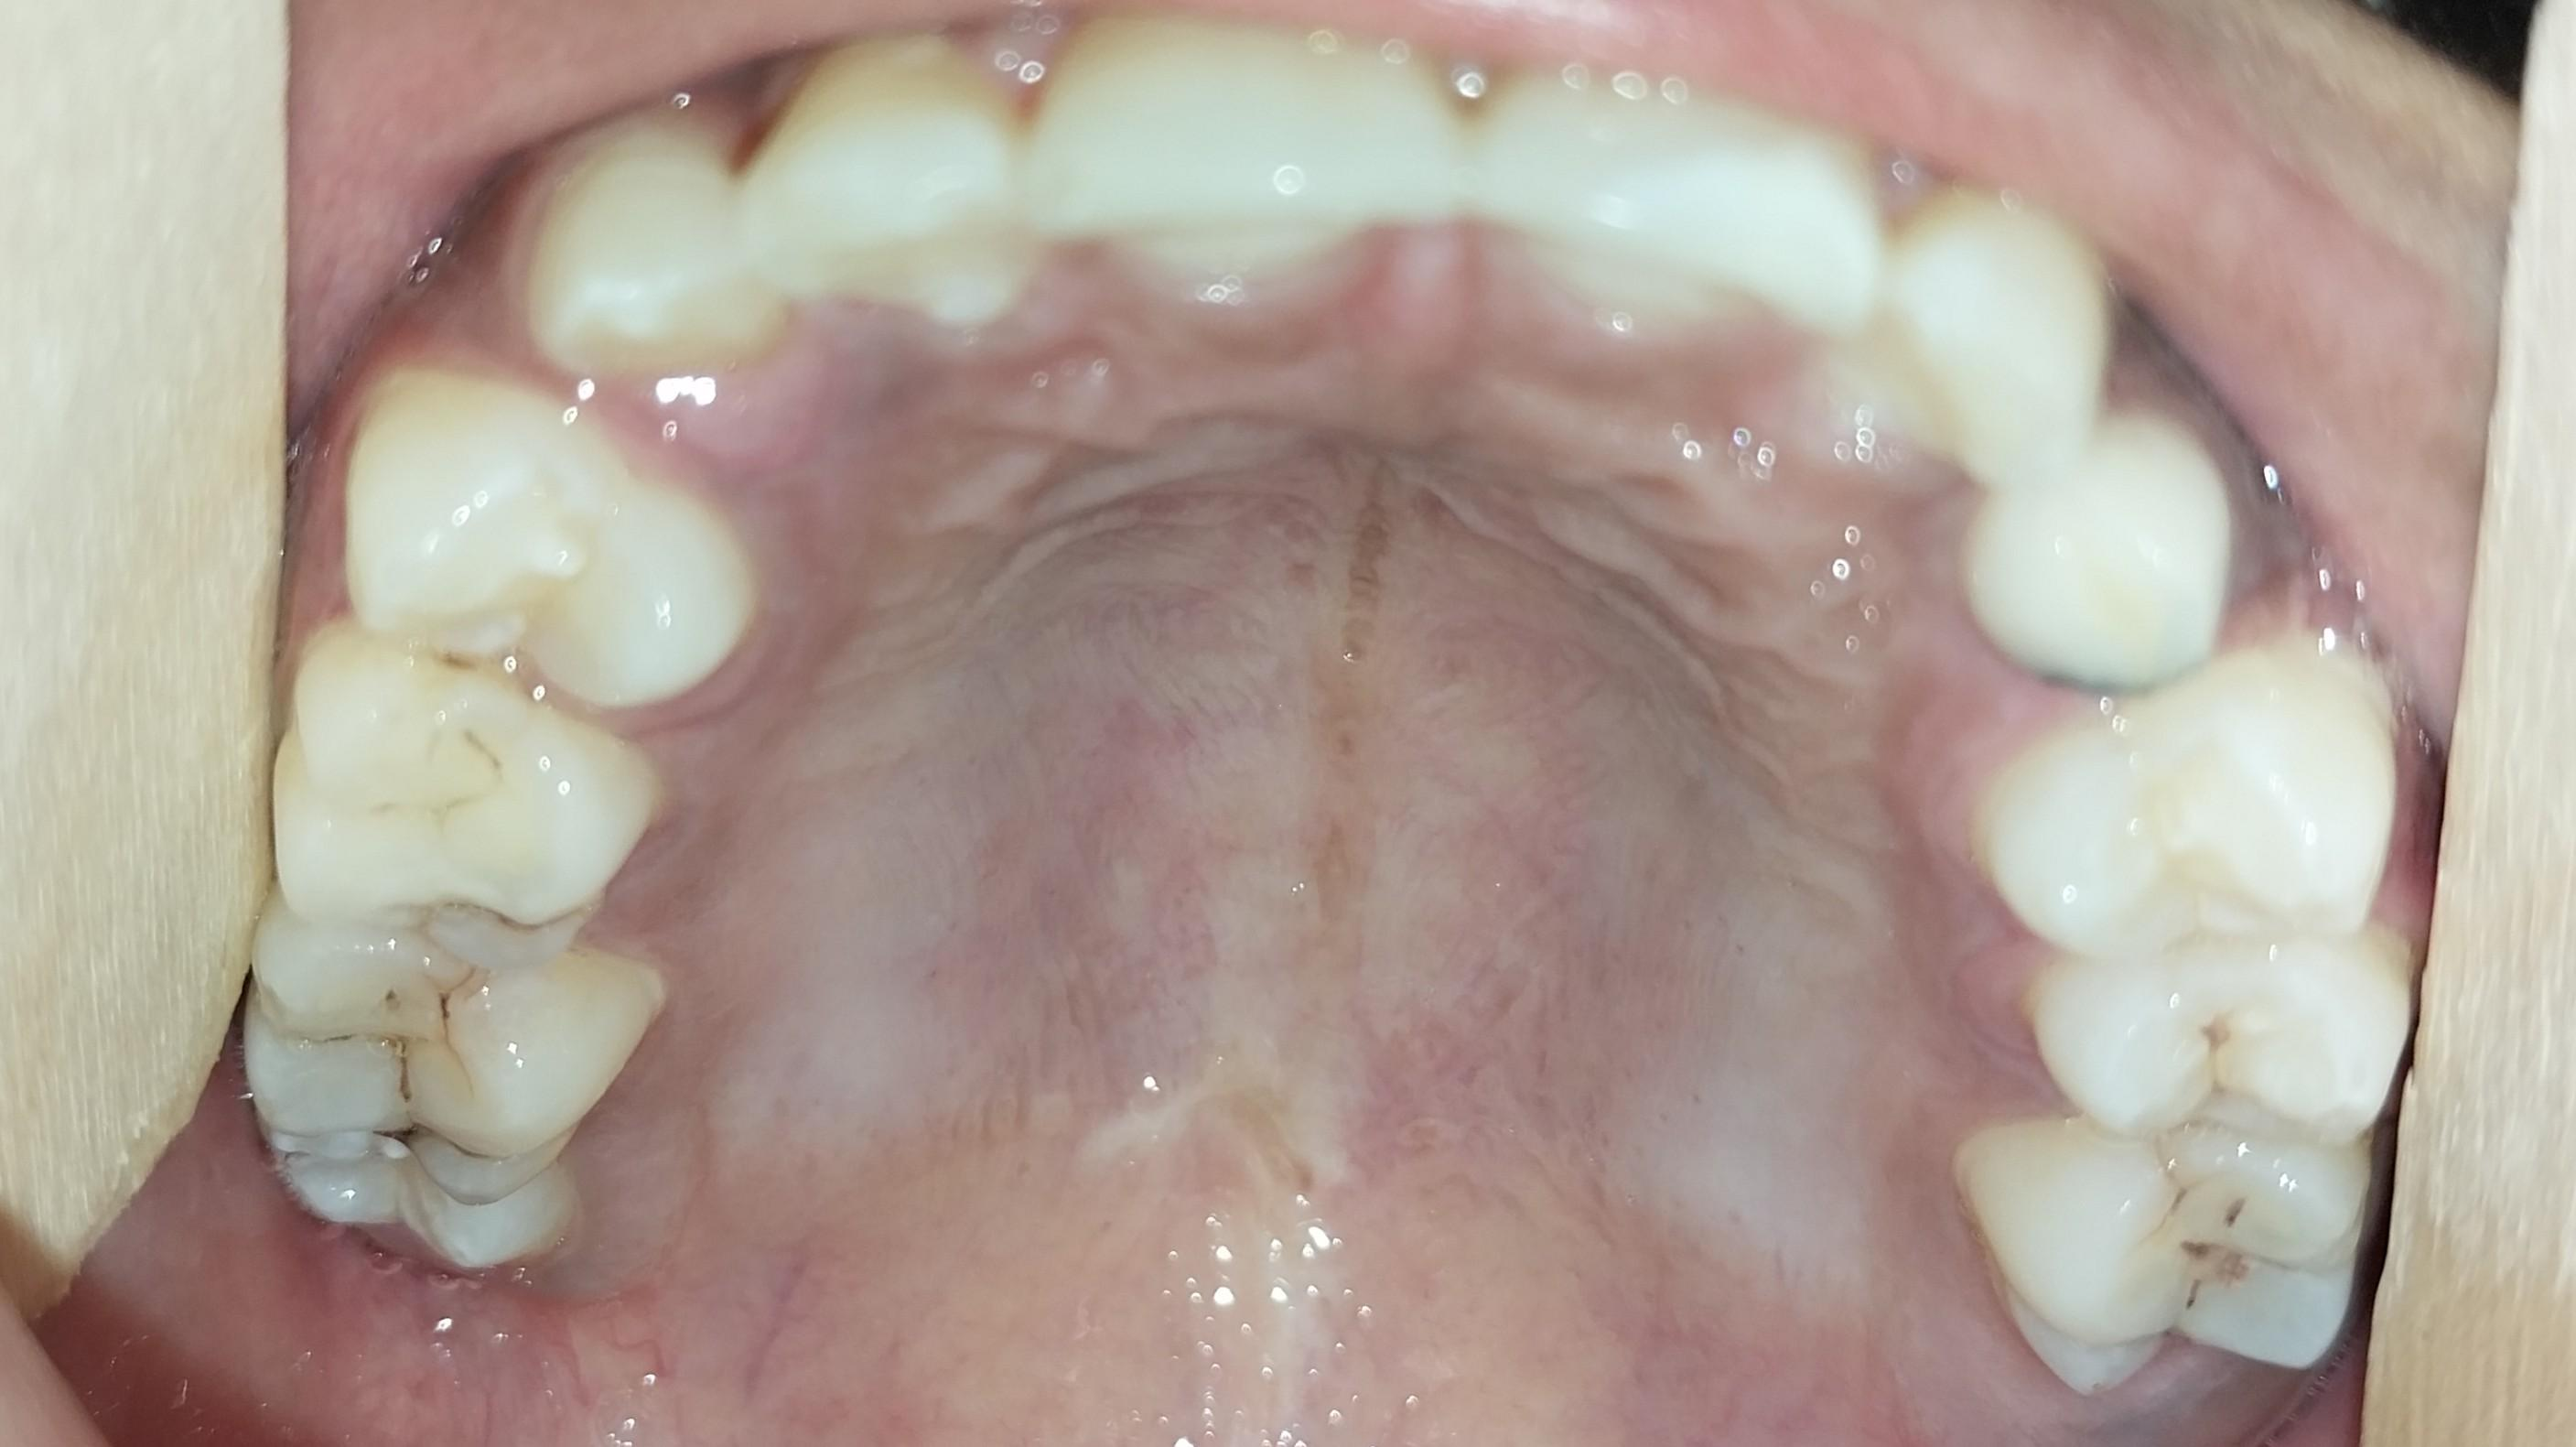D: (248, 873, 645, 1205), (1961, 1109, 2374, 1397)
